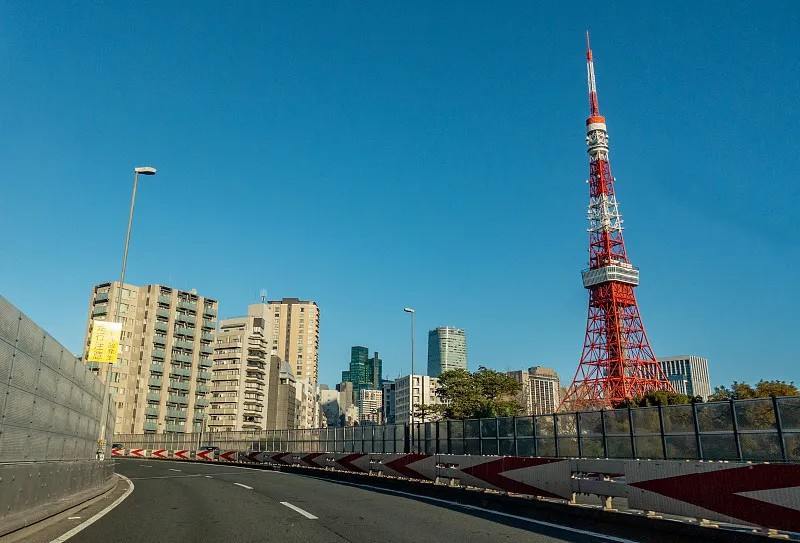Tokyo: (553, 24, 683, 416)
